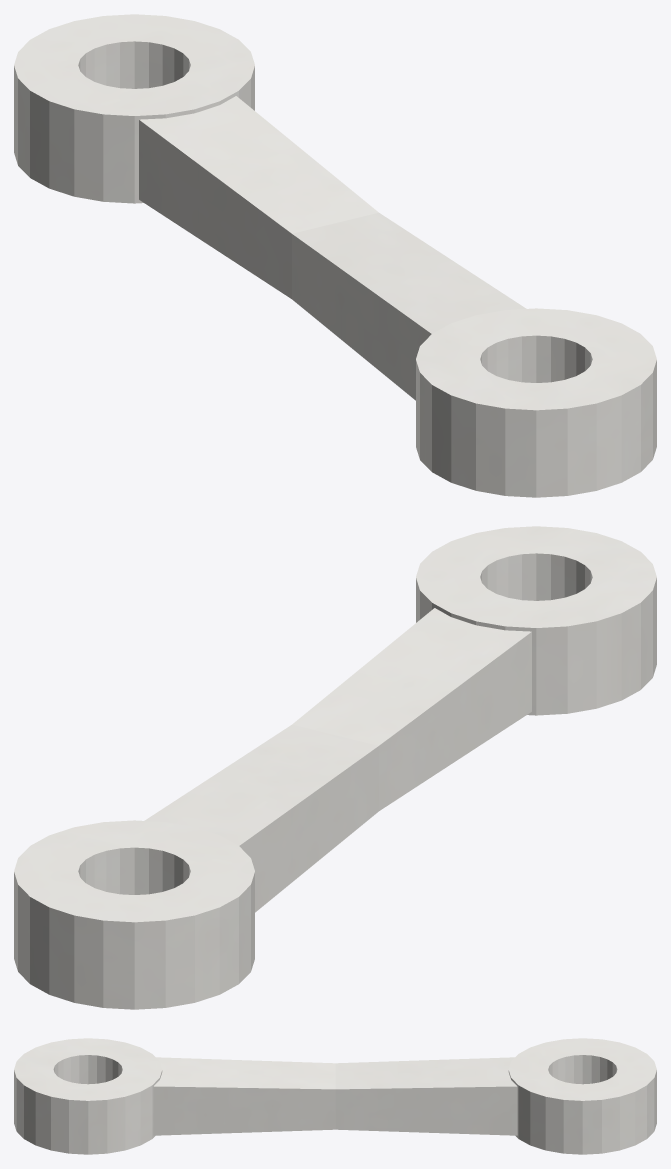
Rendered from wooden-drawbar.glb.
The picture shows the model from 3 angles, top to bottom: view 1: azimuth 30°, elevation 25°; view 2: azimuth 150°, elevation 25°; view 3: azimuth 270°, elevation 25°; orthographic projection. The views are drawn at different scales.
Parts seen in each view (by area): view 1: Drawbar_Body; view 2: Drawbar_Body; view 3: Drawbar_Body.
Boxes of the visible parts, x1,y1,x2,y2 form: Drawbar_Body: [14, 14, 656, 497]; Drawbar_Body: [14, 526, 656, 1009]; Drawbar_Body: [14, 1038, 656, 1154].
Bounding box in the file's own units: 0.06 × 0.024 × 0.26.
Materials: 1 (1 with a texture image).
